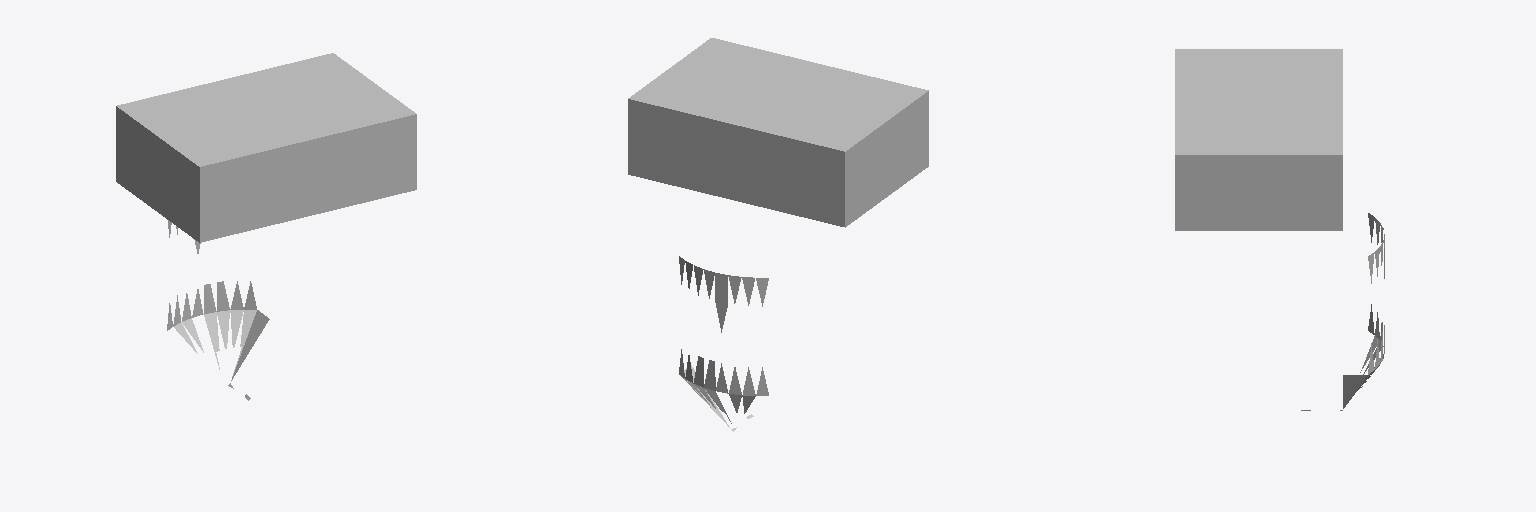
Rendered from 180709 Grip1.obj.
3 views of the same model, side by side, from view 1: azimuth 30°, elevation 25°; view 2: azimuth 150°, elevation 25°; view 3: azimuth 270°, elevation 25° (orthographic).
Size of the model in its own units: 0.06 by 0.081 by 0.05.